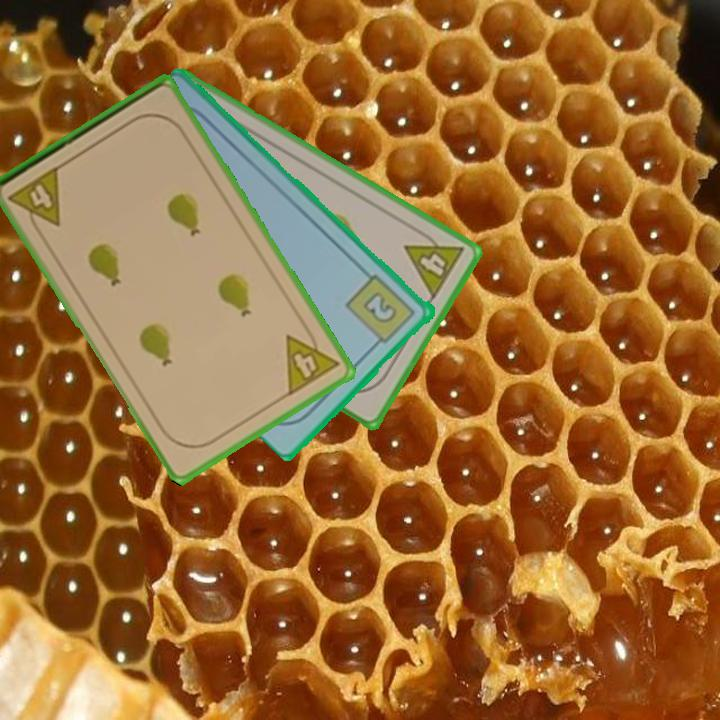2b: (343, 271, 419, 351)
4p: (400, 224, 468, 303), (282, 320, 342, 399), (5, 162, 65, 239)
